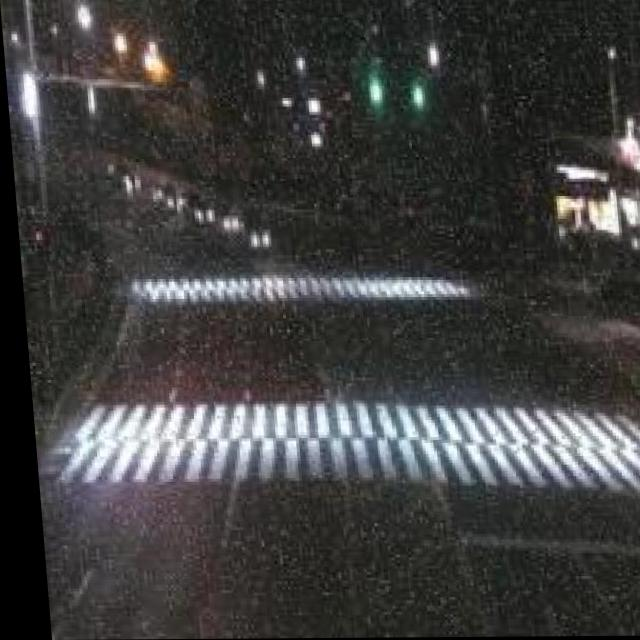zebra: (44, 387, 640, 523), (120, 268, 471, 305)
